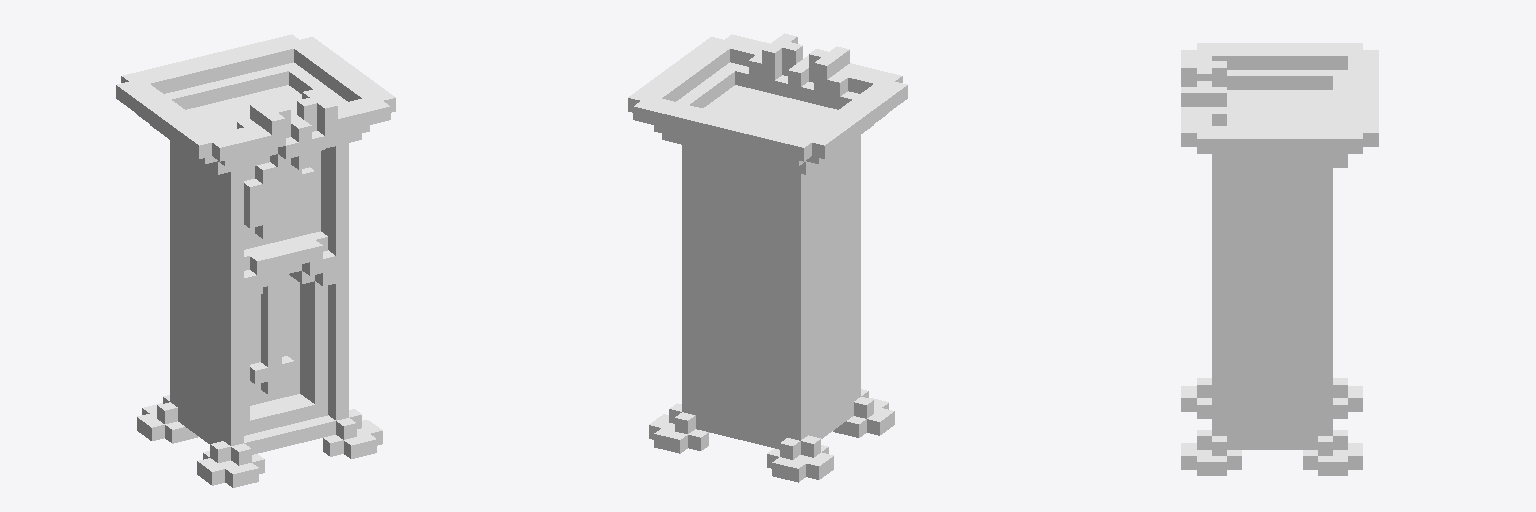
Rendered from Interior_Furniture_Misc_Clock_01.obj.
3 renders of one model, left to right at view 1: azimuth 30°, elevation 25°; view 2: azimuth 150°, elevation 25°; view 3: azimuth 270°, elevation 25°, orthographic.
Visible parts, largest first — view 1: object 1; view 2: object 1; view 3: object 1.
Boxes of the visible parts, x1,y1,x2,y2 form: object 1: [116, 34, 395, 487]; object 1: [628, 33, 907, 482]; object 1: [1181, 43, 1378, 475].
Bounding box in the file's own units: 1.5 × 2.6 × 1.3.